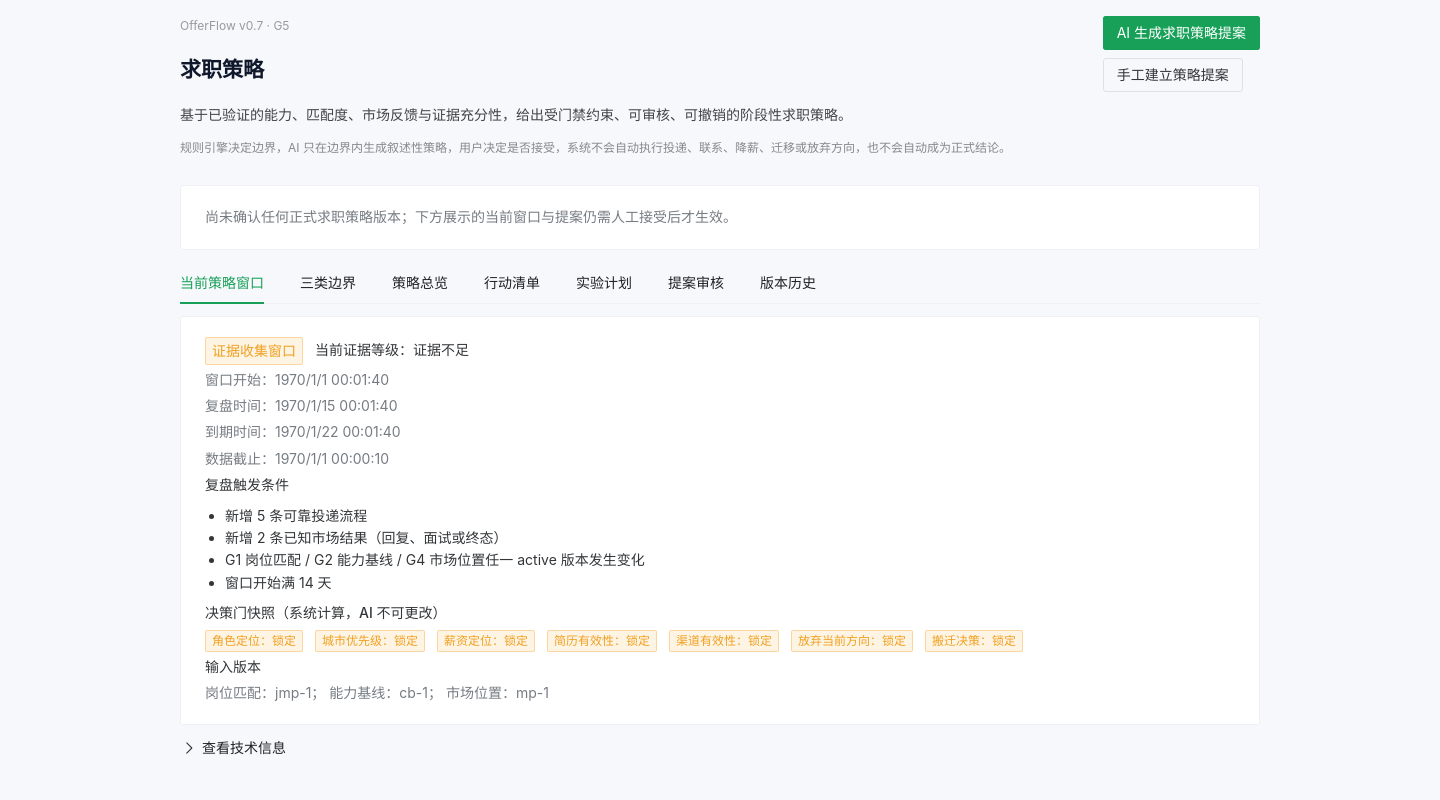
Test: StrategyWindowPage › G5 沙箱环境下后端连接失败给出重启提示
The width and height of the screenshot is (1440, 800).
Click the button with test id "sw-ai-generate": point(1181, 33) x1=1103 y1=16 x2=1260 y2=50
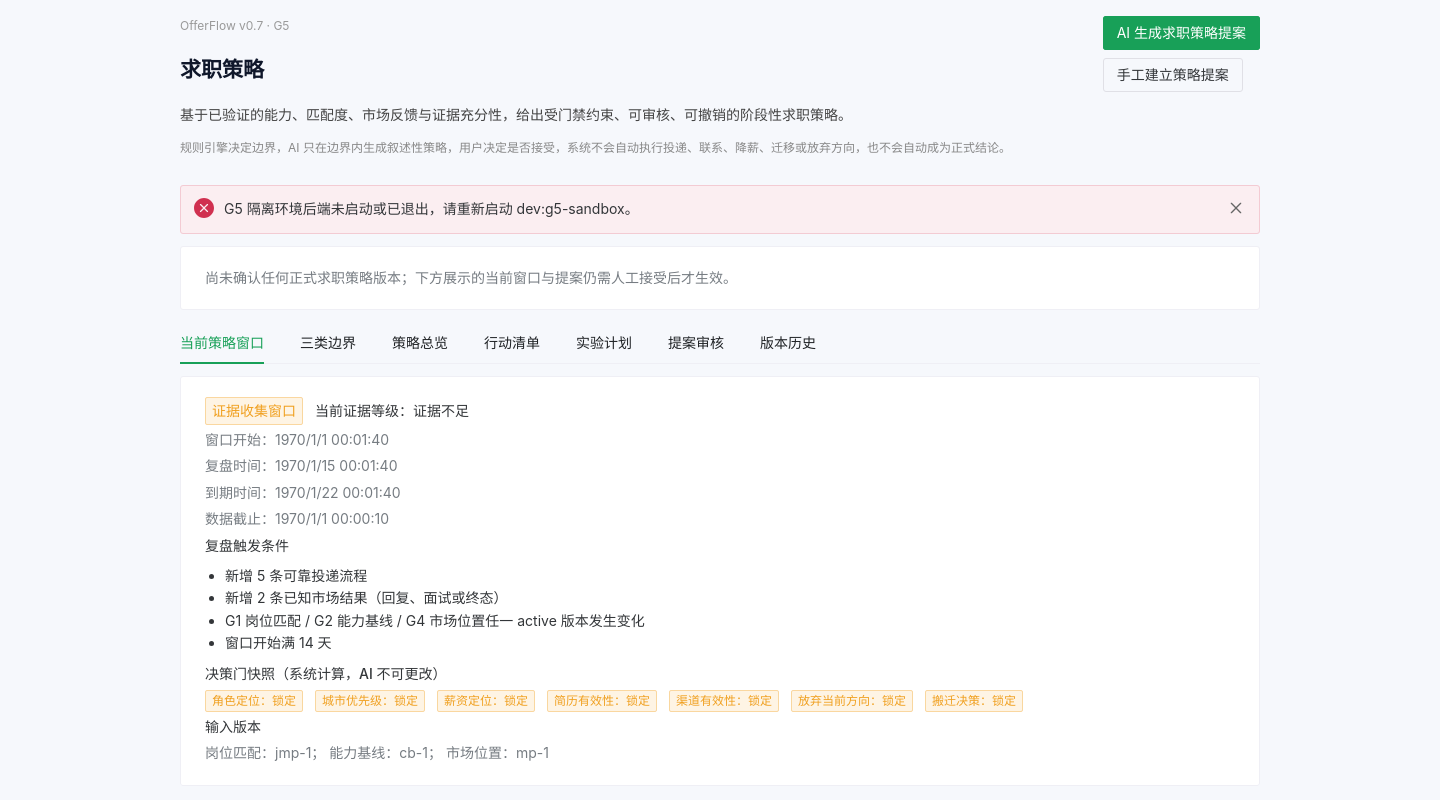
Expected: the message with test id "sw-error" reads "G5 隔离环境后端未启动或已退出，请重新启动 dev:g5-sandbox。", x1=224 y1=200 x2=639 y2=217
